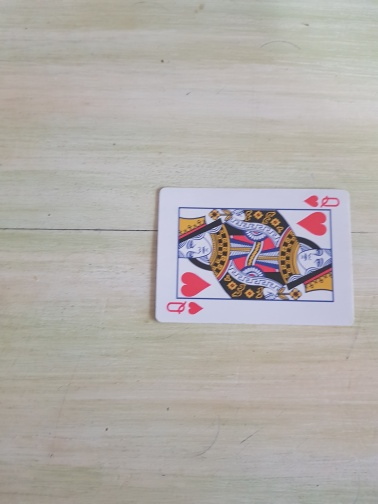queen: (155, 186, 355, 324)
